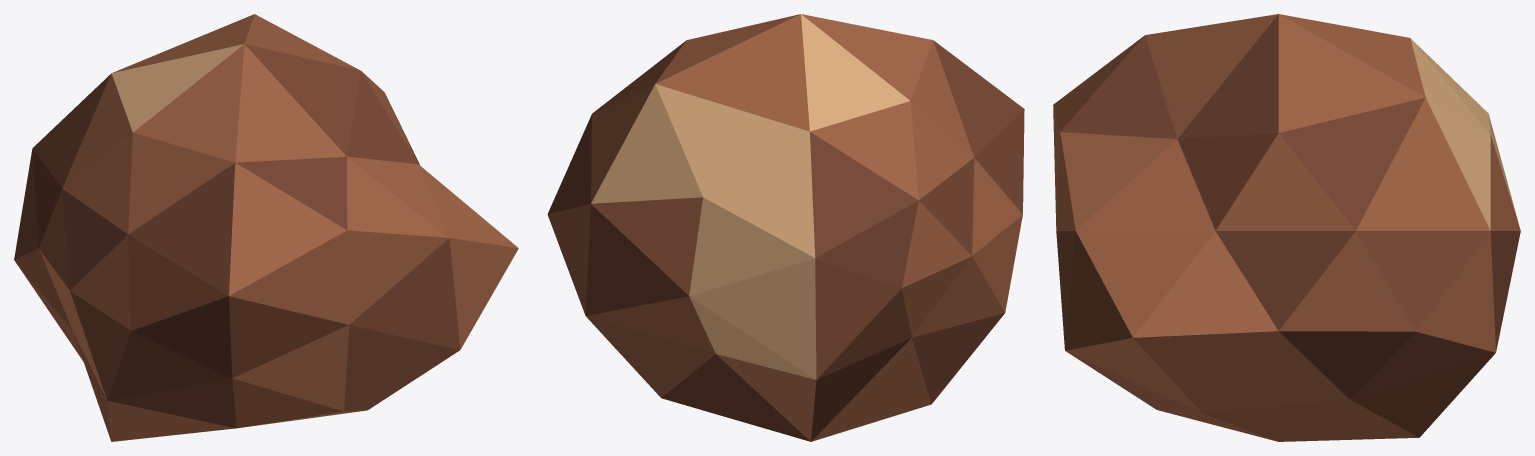
File: bauxite.glb
3 renders of one model, left to right at view 1: azimuth 30°, elevation 25°; view 2: azimuth 150°, elevation 25°; view 3: azimuth 270°, elevation 25°, orthographic. The views are drawn at different scales.
Parts seen in each view (by area): view 1: bauxite; view 2: bauxite; view 3: bauxite.
Boxes of the visible parts, box(x1,y1,x2,y2) form: bauxite: box(14, 14, 518, 441); bauxite: box(547, 14, 1024, 441); bauxite: box(1053, 14, 1520, 441).
Bounding box in the file's own units: 0.7904 × 0.7256 × 0.7919.
